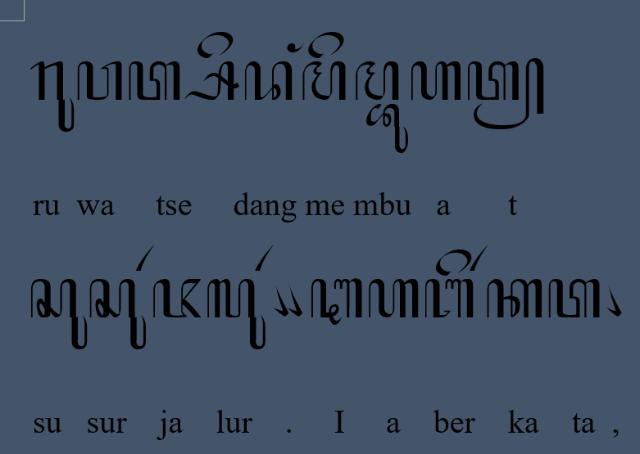-t: (465, 56, 545, 132)
I: (310, 277, 364, 326)
_bu: (365, 104, 409, 154)
_r1: (253, 244, 275, 274), (468, 243, 490, 273), (136, 243, 156, 273)
_s: (183, 59, 240, 102)
b: (423, 278, 475, 318)
d: (243, 59, 294, 102)
e: (434, 247, 472, 277), (195, 31, 235, 59), (307, 30, 345, 59)
h: (410, 60, 462, 102), (367, 278, 419, 320)
j: (152, 278, 202, 320)
k: (486, 278, 544, 322)
kom: (605, 285, 623, 319), (271, 285, 289, 317), (287, 285, 303, 319)
lu: (207, 278, 267, 352)
m: (355, 59, 401, 102), (302, 60, 348, 102)
ng: (285, 42, 305, 54)
ru: (28, 60, 76, 134)
su: (29, 276, 89, 352), (89, 278, 147, 352)
t: (547, 278, 603, 320), (127, 59, 181, 102)
w: (76, 61, 124, 102)
